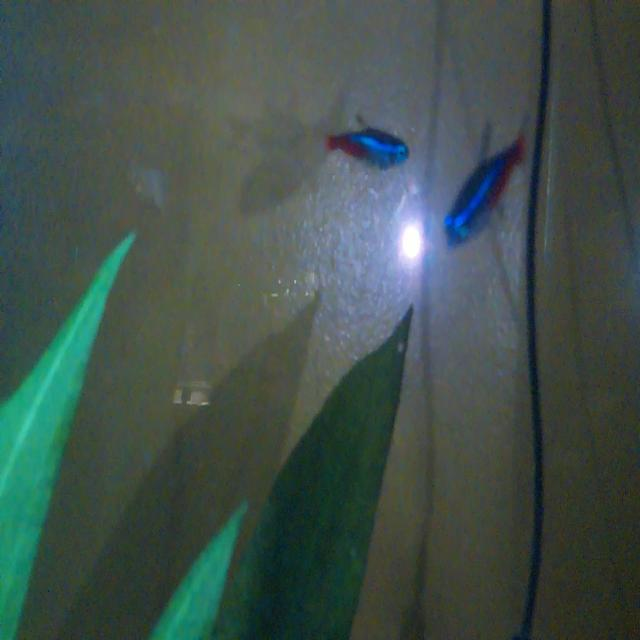fish: (415, 125, 535, 250), (323, 108, 417, 182)
